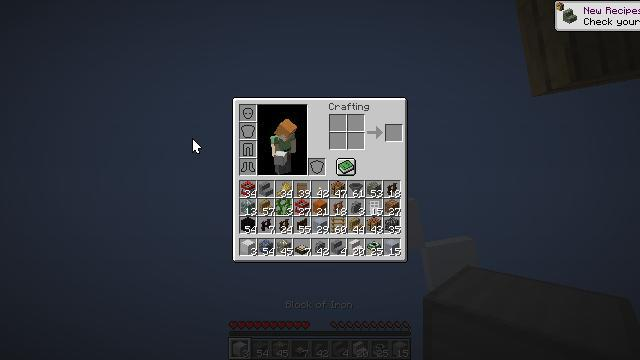cursor: (192, 138, 202, 154)
